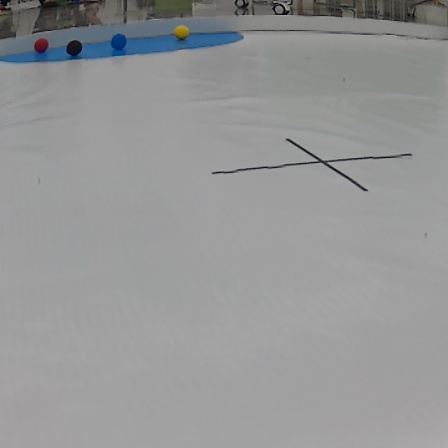black: (65, 41, 84, 55)
blue: (108, 33, 130, 51)
blue_base: (0, 30, 245, 60)
red: (33, 37, 49, 56)
yellow: (172, 24, 191, 38)
